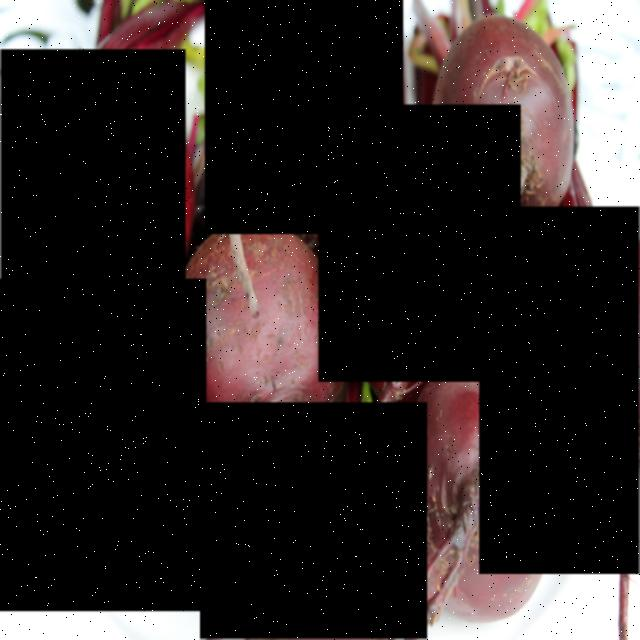Beetroot: (0, 278, 206, 611), (479, 206, 640, 574), (318, 105, 521, 382), (200, 402, 427, 640), (2, 50, 186, 308), (205, 0, 403, 234)
